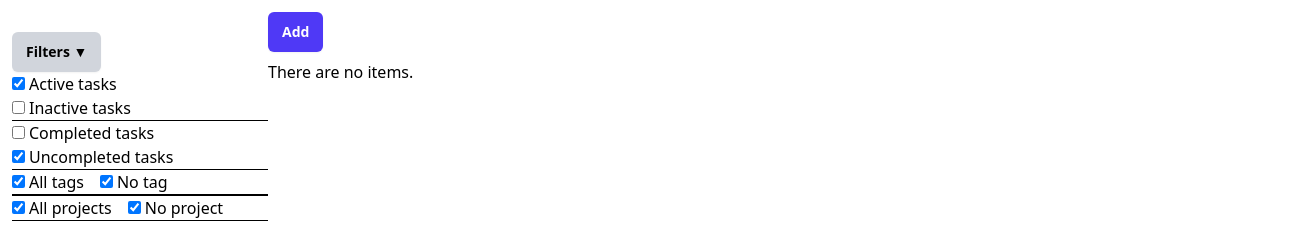
Test: TaskView › get both completed and uncompleted tasks
Click the checkbox labelled "Completed tasks".
click(18, 132)  # box [12,126,25,139]
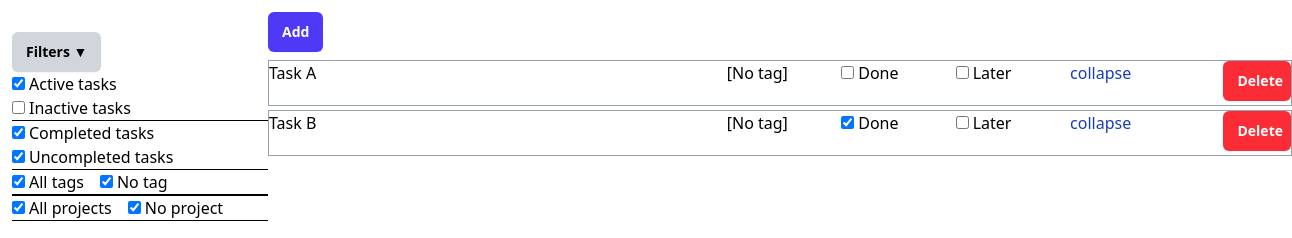
Expected: the checkbox labelled "Completed tasks" is checked, [12,126,25,139]
Expected: the number of elements with test id "item" is 2, [268,60,1291,106]; [268,110,1291,156]
Expected: the text with test id "description" reads "Task A", [269,62,316,84]
